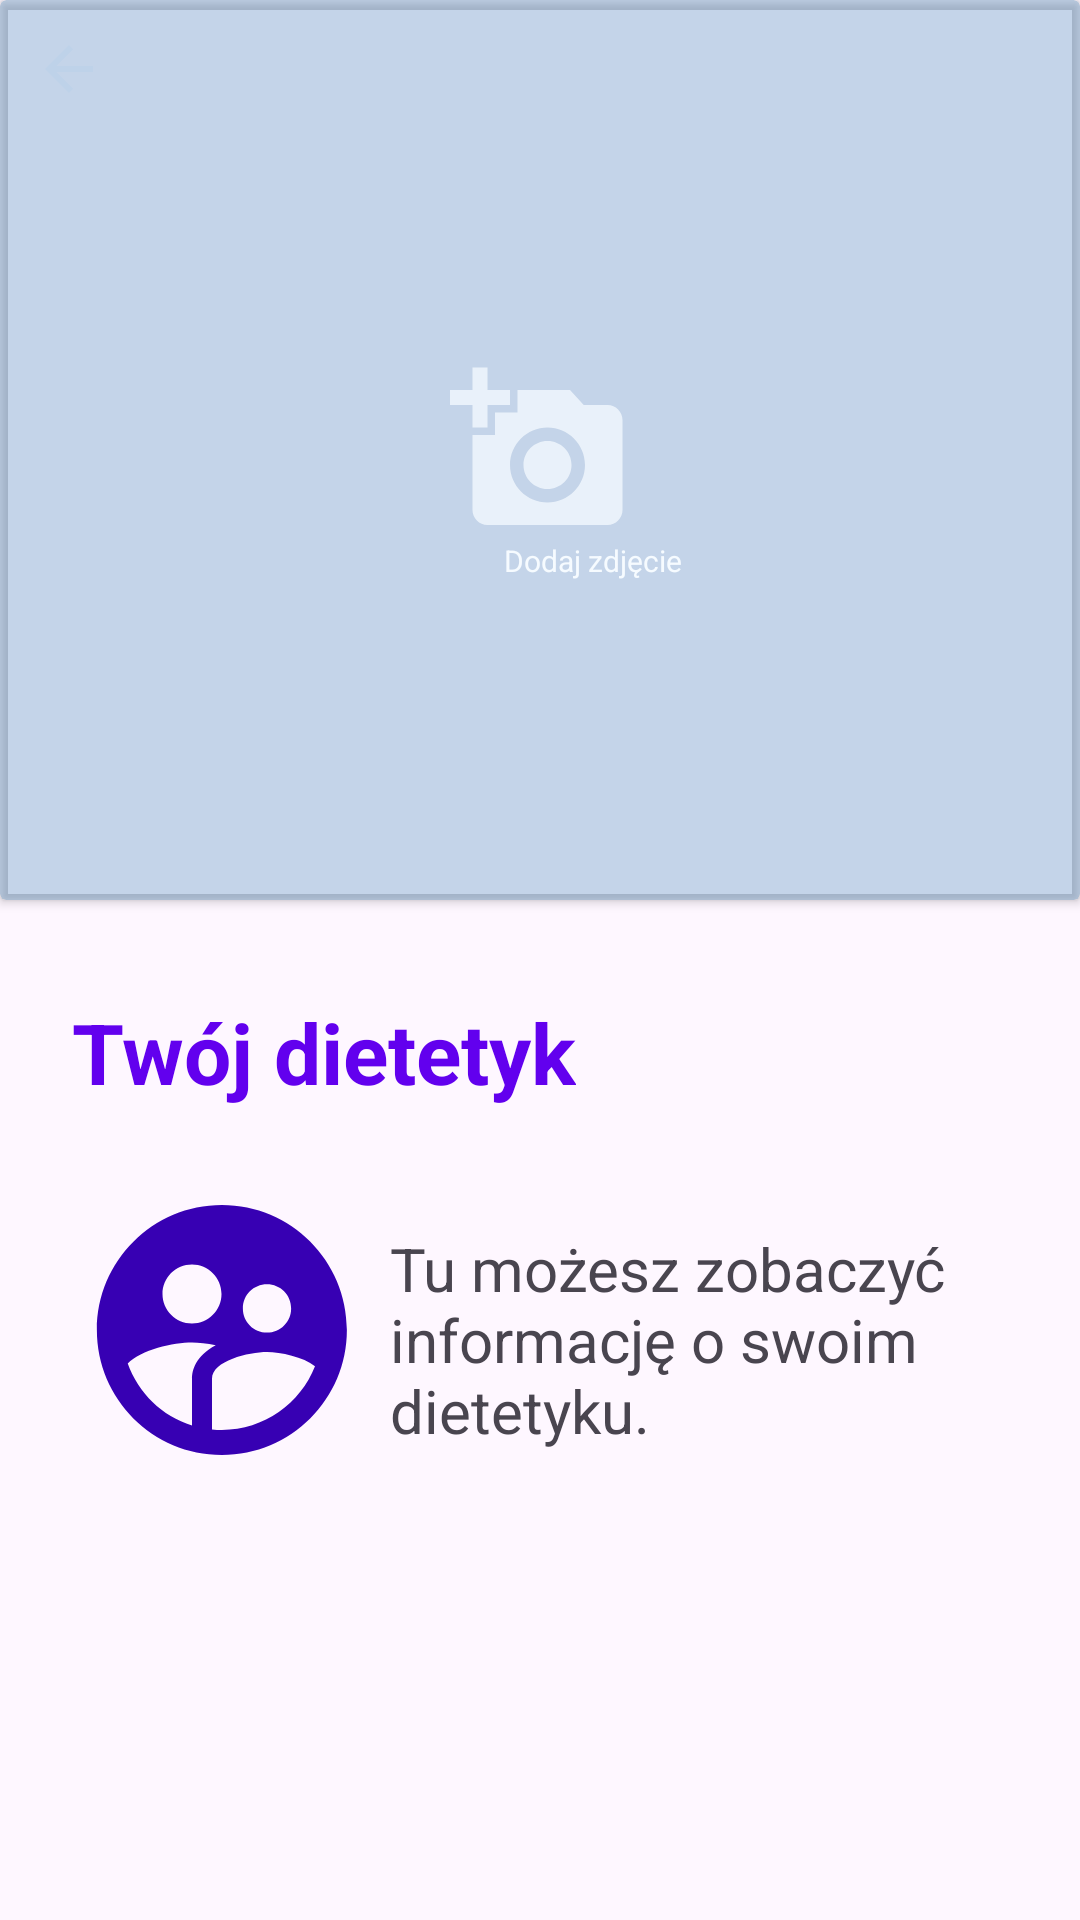

Named icons in this screenshot (1080×1920) and their bounding boxes, (x1, y1, x2, y2):
supervised user circle: (96, 1205, 347, 1455)
